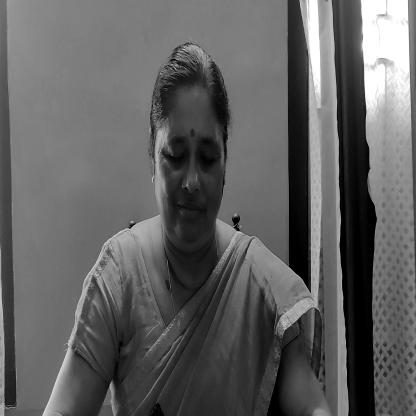Normal: (153, 40, 224, 241)
